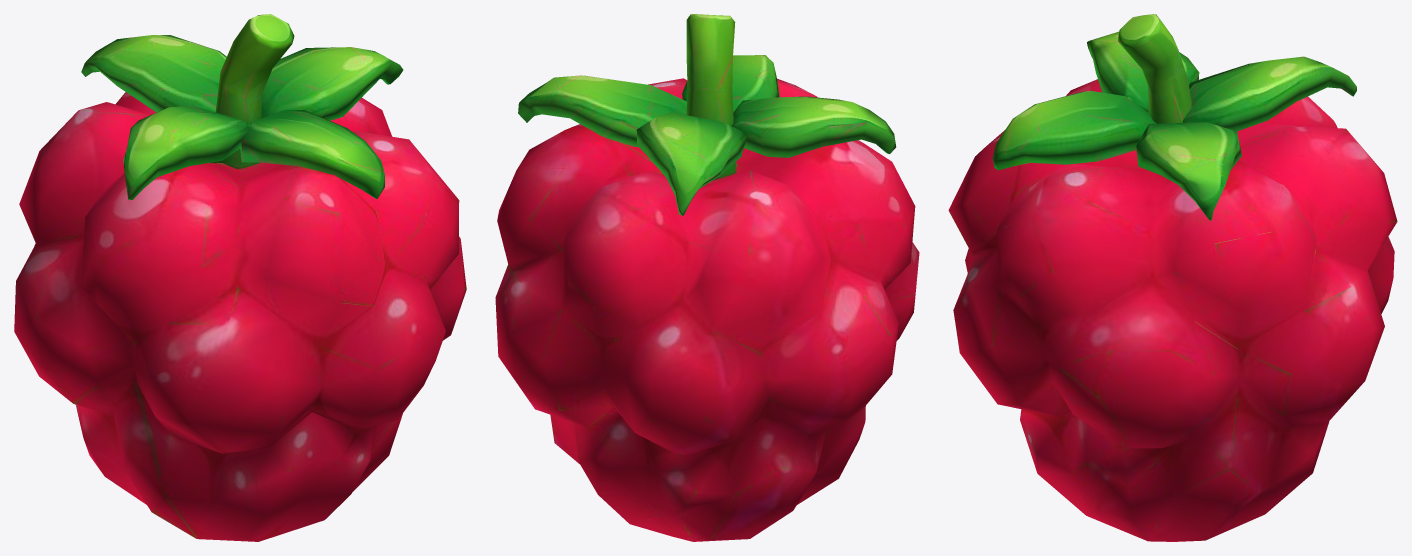
File: berry.glb
3 renders of one model, left to right at view 1: azimuth 30°, elevation 25°; view 2: azimuth 150°, elevation 25°; view 3: azimuth 270°, elevation 25°, orthographic. The views are drawn at different scales.
Bounding box in the file's own units: 0.7622 × 0.9531 × 0.7544.
Materials: 1 (1 with a texture image).
